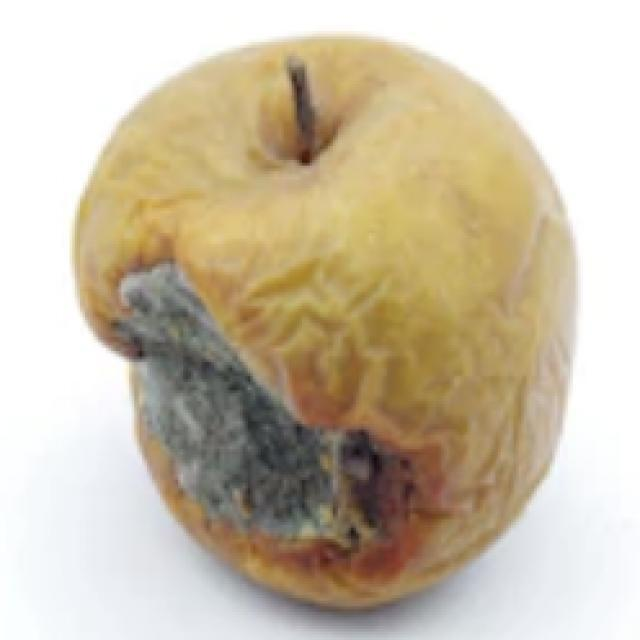Rotten: (92, 43, 570, 602)
